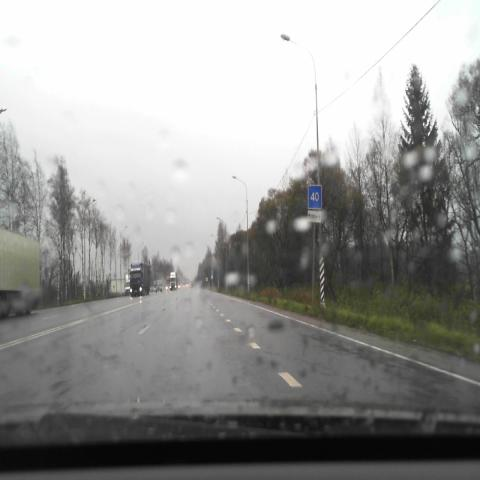6_2: (308, 184, 322, 208)
